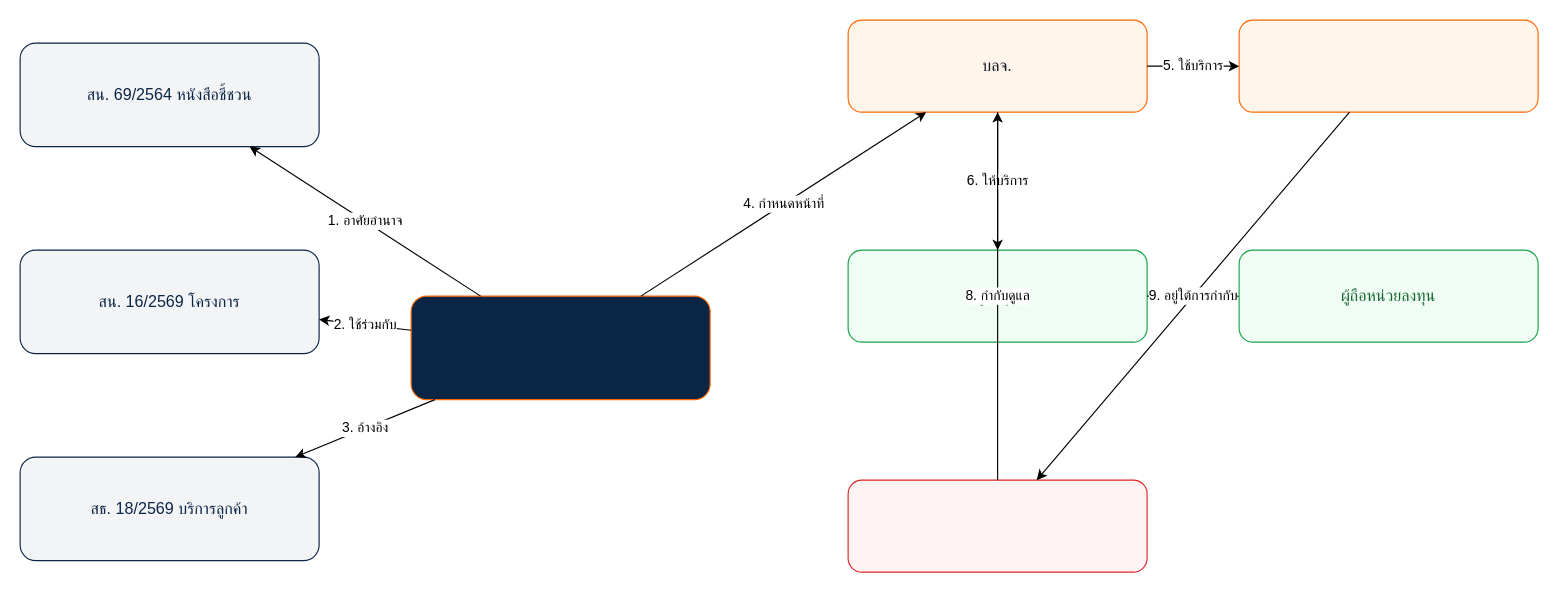
This 1558x592 diagram has some shape labels left out. The shapes that lost their labels are listed below. From the top down, each one's centre as x and y in pixels, then its label:
At (1388,65): "ผู้ดูแลผลประโยชน์ / ตัวแทนเก็บรักษา".
At (560,347): "สน.17/2569 หนังสือชี้ชวน Crypto ETF".
At (997,525): "ก.ล.ต.".
